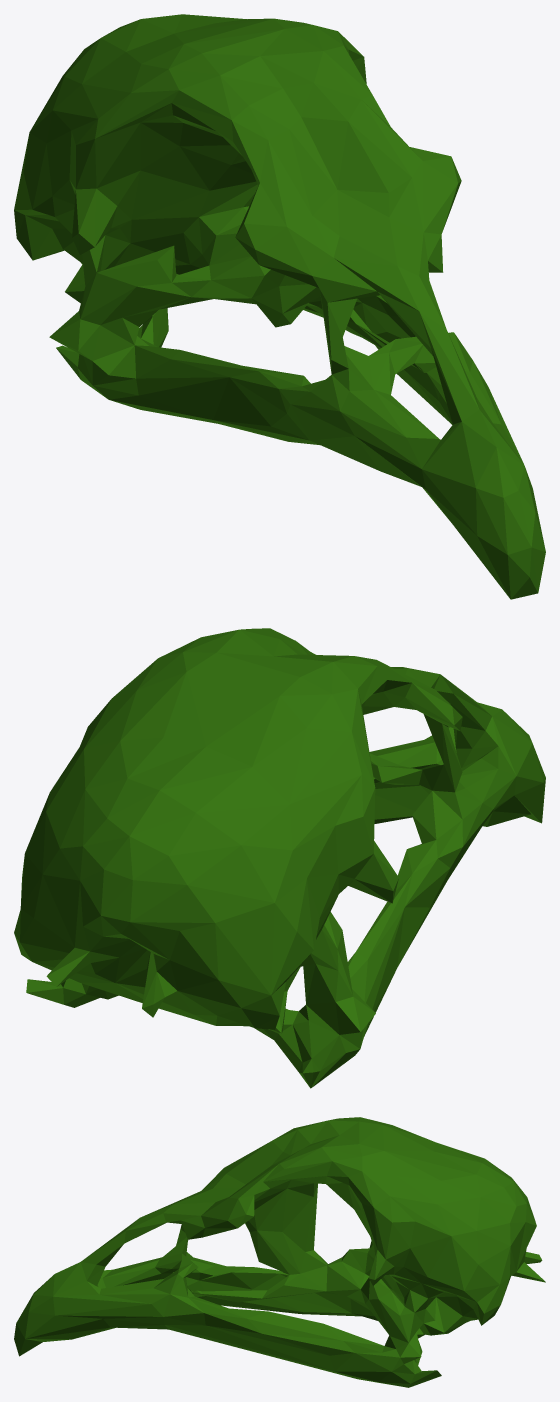
The model's file is SkeletonBirdHead.fbx.
The picture shows the model from 3 angles, top to bottom: view 1: azimuth 30°, elevation 25°; view 2: azimuth 150°, elevation 25°; view 3: azimuth 270°, elevation 25°; orthographic projection. The views are drawn at different scales.
Visible parts, largest first — view 1: SkeletonBirdHead; view 2: SkeletonBirdHead; view 3: SkeletonBirdHead.
Part boxes in pixels (bbox=[...]): SkeletonBirdHead: bbox=[14, 14, 545, 599]; SkeletonBirdHead: bbox=[14, 628, 545, 1088]; SkeletonBirdHead: bbox=[14, 1117, 545, 1387].
Size of the model in its own units: 112 by 120 by 262.
